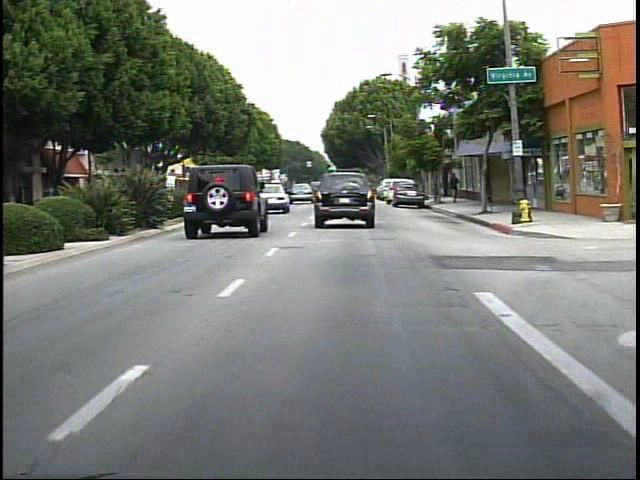person: (444, 169, 464, 206)
